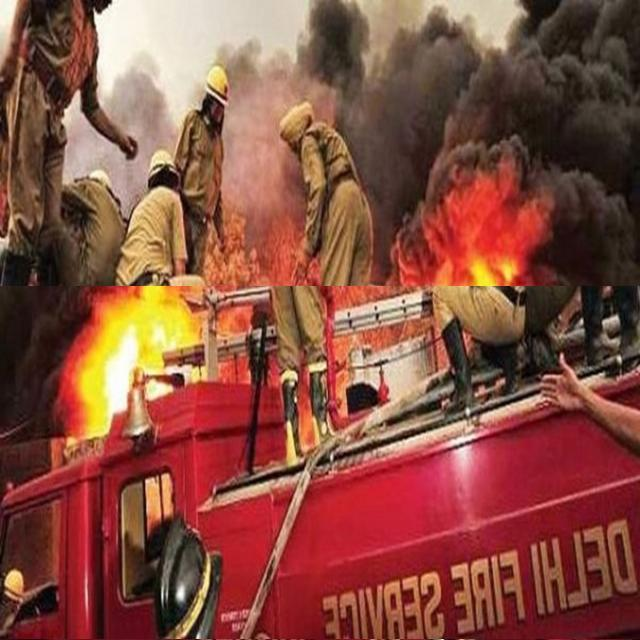emergency: (0, 286, 640, 639)
